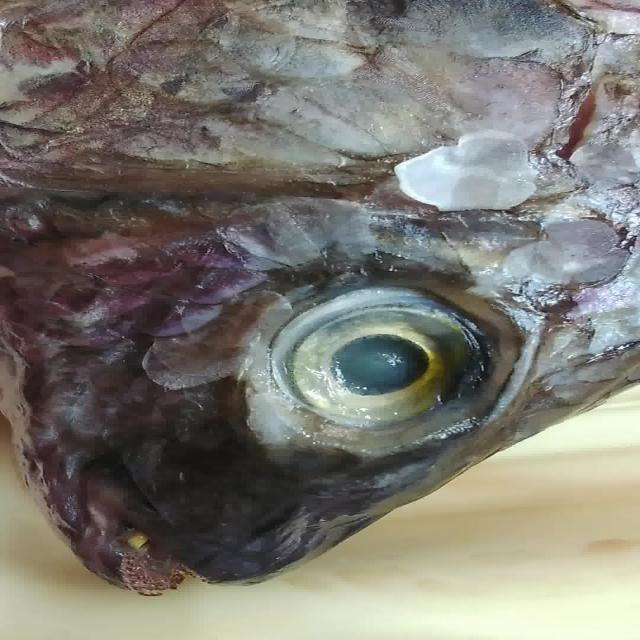Non-Fresh: (18, 3, 610, 264), (278, 282, 510, 457)
